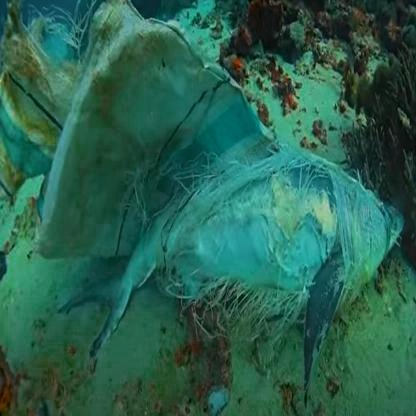plastic: (88, 55, 317, 303)
